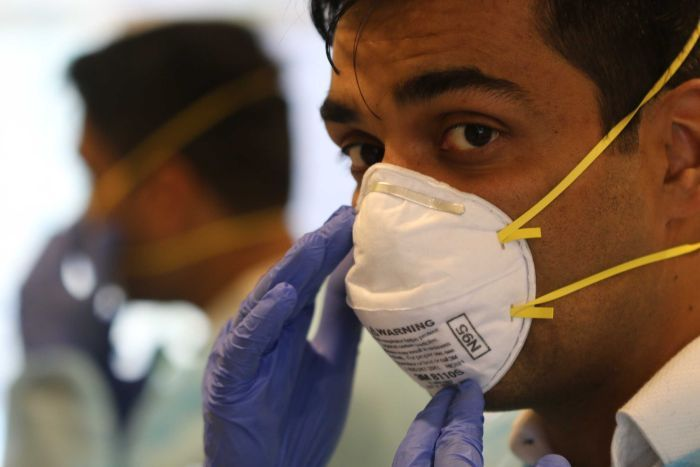n95: (331, 162, 535, 406)
